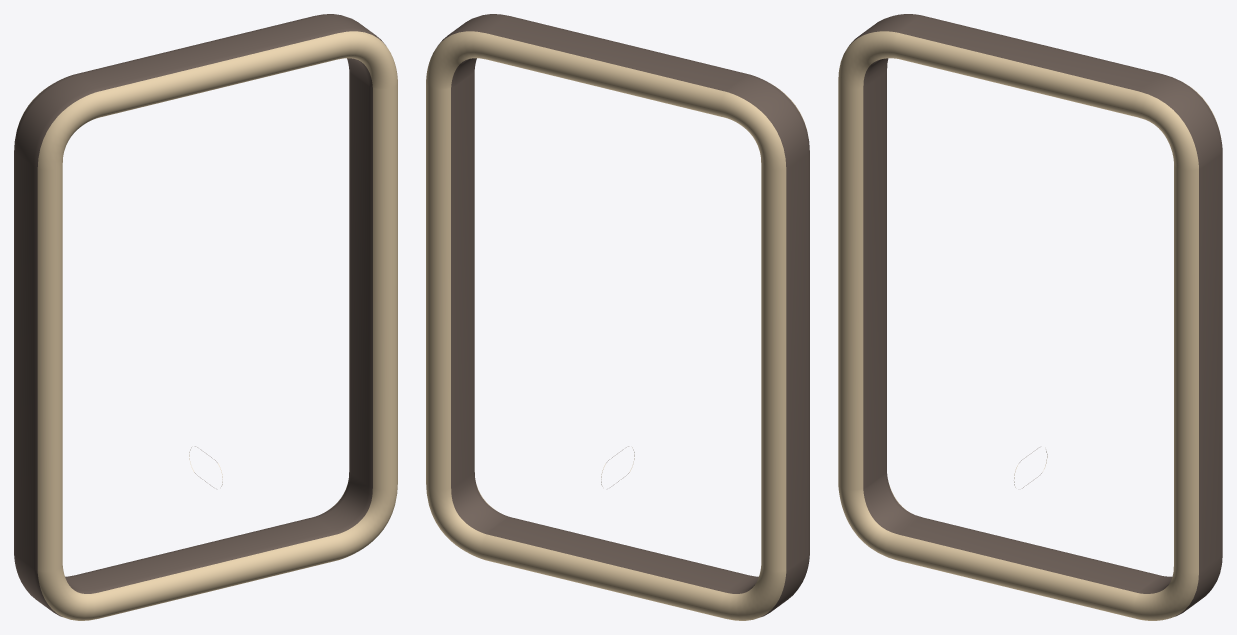
The model's file is mobile-applications.glb.
The picture shows the model from 3 angles, left to right: view 1: azimuth 30°, elevation 25°; view 2: azimuth 150°, elevation 25°; view 3: azimuth 330°, elevation 25°; orthographic projection.
Visible parts, largest first — view 1: showcase_icon_mobile-applications; view 2: showcase_icon_mobile-applications; view 3: showcase_icon_mobile-applications.
Boxes of the visible parts, x1,y1,x2,y2 form: showcase_icon_mobile-applications: [14, 14, 397, 620]; showcase_icon_mobile-applications: [426, 14, 809, 620]; showcase_icon_mobile-applications: [838, 14, 1222, 620].
Bounding box in the file's own units: 0.7162 × 1 × 0.114.
